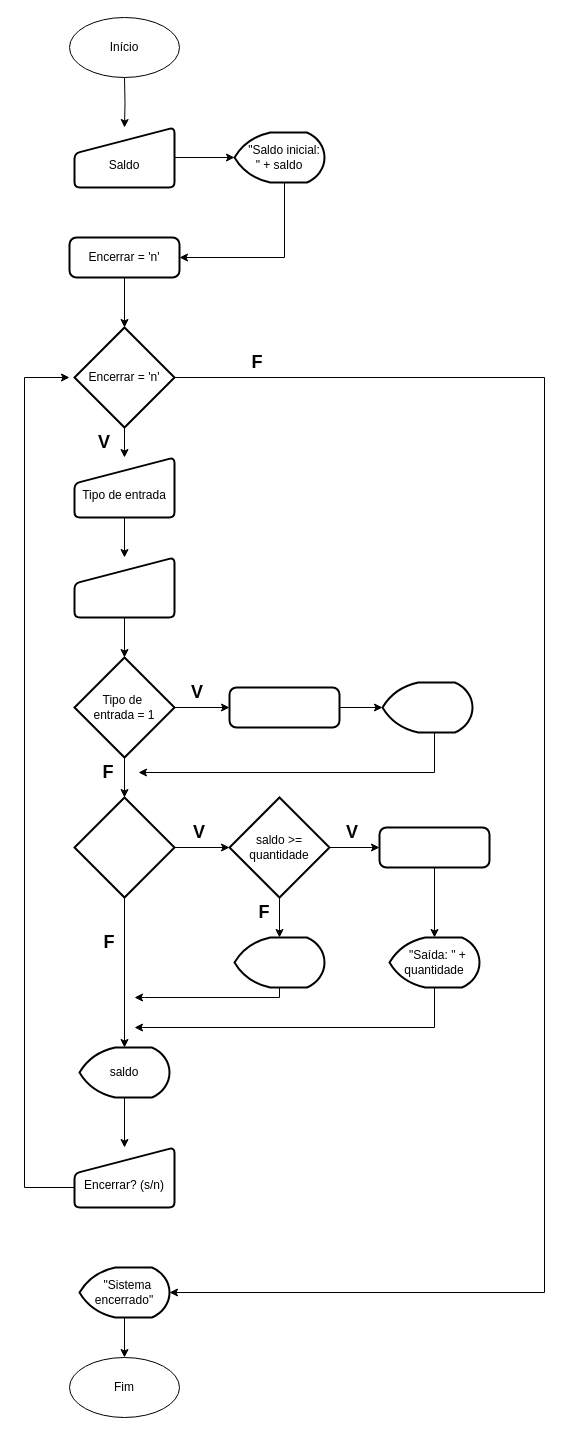
Image size: 570x1435. Some labels were removed from this diagram. Each missing label, with the box of its shape:
"Entrada: " + quantidade: (381, 681, 473, 733)
"Saldo insuficiente": (233, 936, 325, 988)
Quantidade: (73, 556, 175, 618)
saldo = saldo + quantidade: (228, 686, 340, 728)
saldo = saldo - quantidade: (378, 826, 490, 868)
Tipo de entrada = 2: (73, 796, 175, 898)
